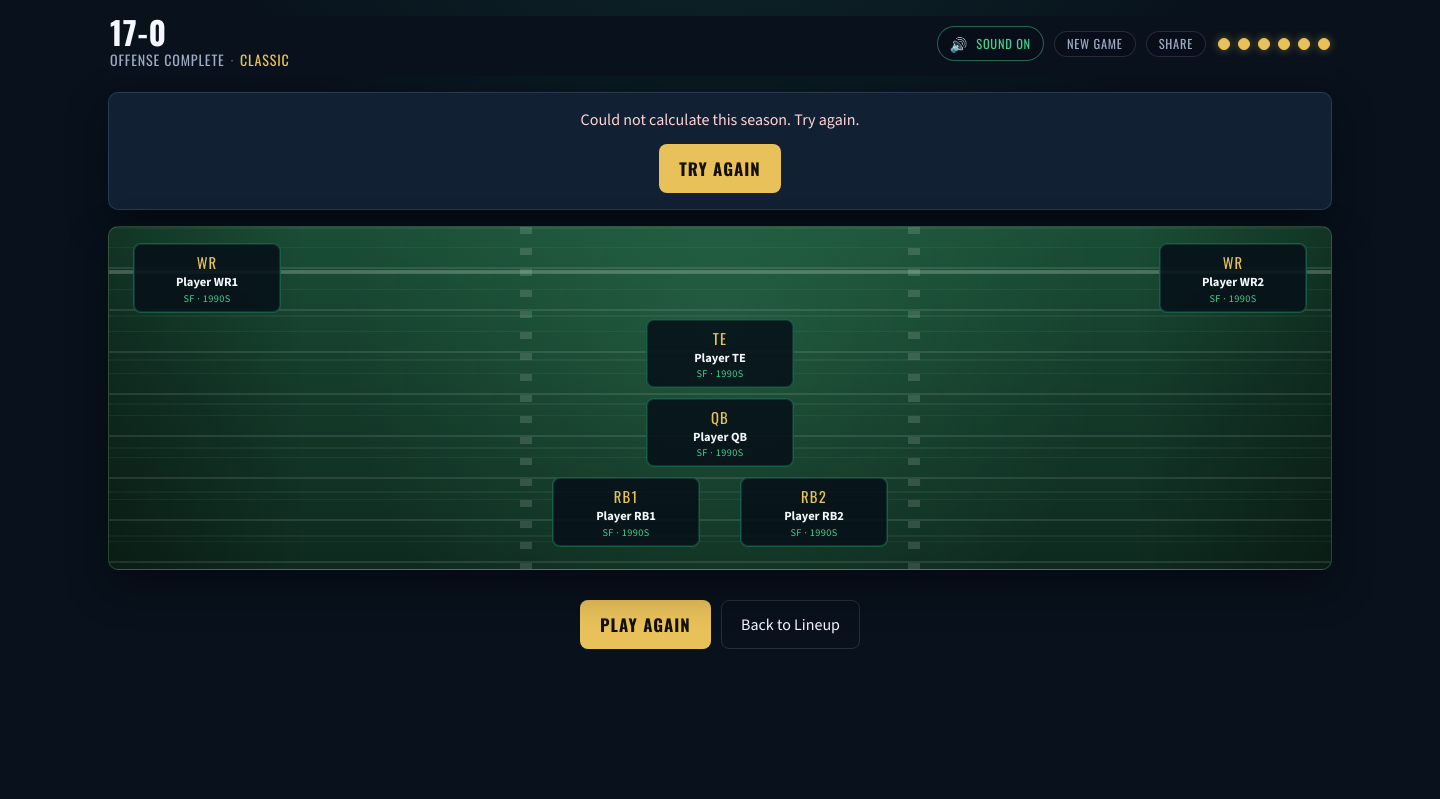
Test case: ResultsPageClient › retries the score API after a failure without dropping the lineup
The width and height of the screenshot is (1440, 799).
Expected: the text "Player QB" is shown, [693, 430, 747, 444]
Step 1. Click the button "Try Again" → click(720, 168), box [659, 144, 781, 193]
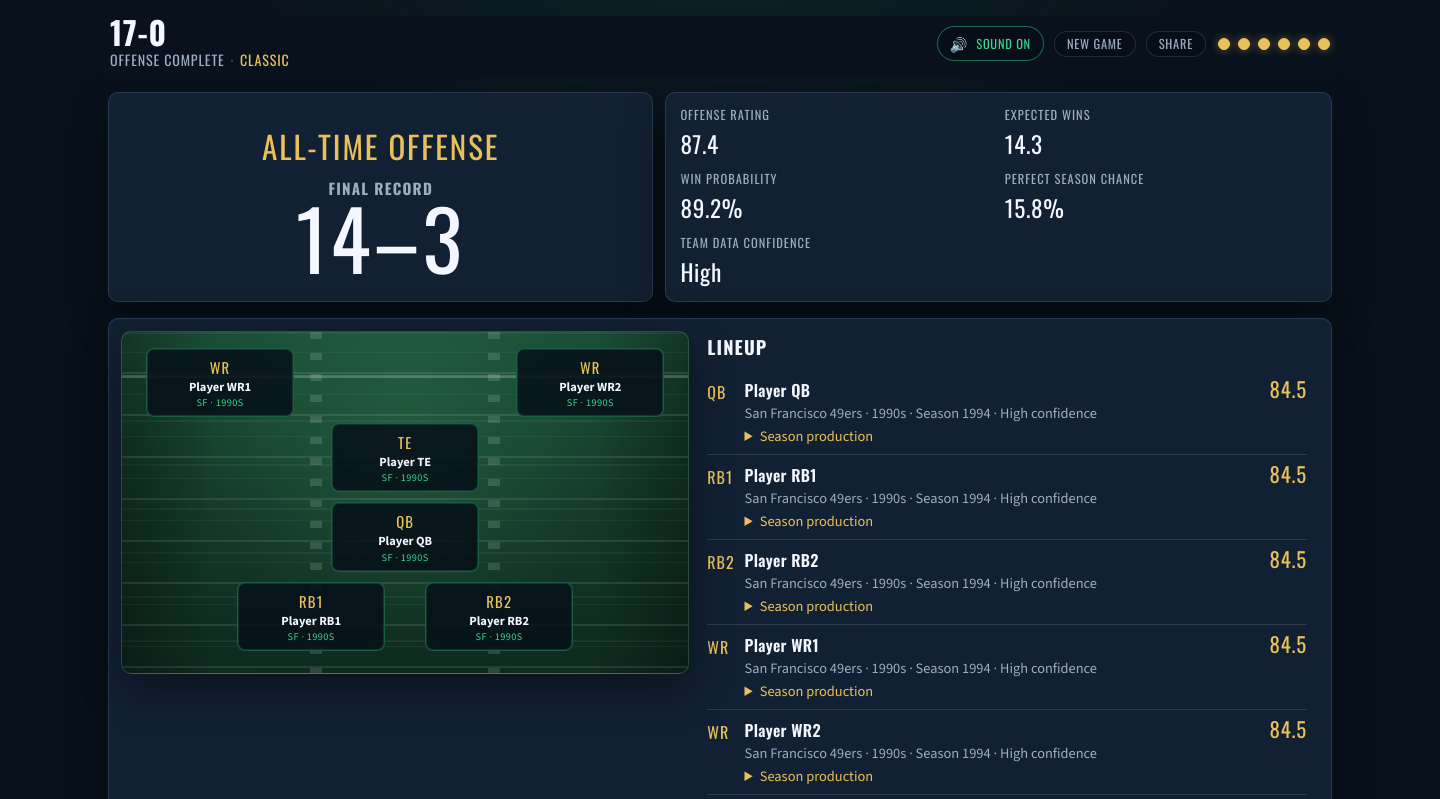
Expected: the text "14–3" is shown, [296, 176, 466, 298]
